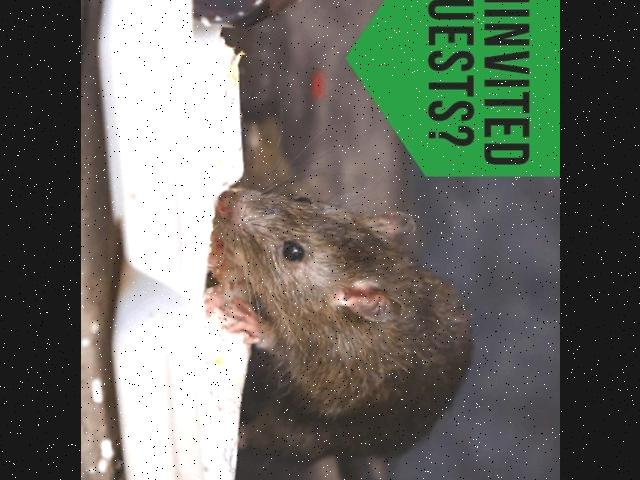Tikus: (208, 185, 470, 480)
